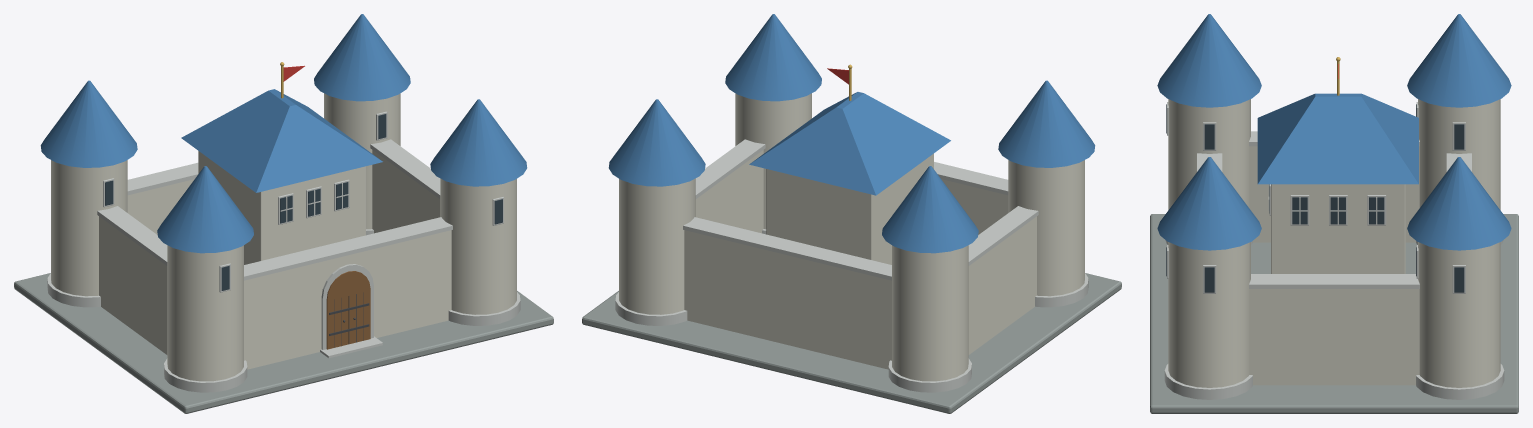
File: castle_round_towers.glb
3 views of the same model, side by side, from view 1: azimuth 30°, elevation 25°; view 2: azimuth 150°, elevation 25°; view 3: azimuth 270°, elevation 25° (orthographic). The views are drawn at different scales.
Visible parts, largest first — view 1: Round castle end wall, Round castle stone base, Central blue hipped roof, Round limestone tower, Round limestone tower.002, Round castle central hall, Round limestone tower.001, Round castle side wall, Blue conical tower roof.002, Blue conical tower roof.003, Blue conical tower roof.001, Blue conical tower roof (+13 smaller); view 2: Round castle end wall.001, Round castle stone base, Central blue hipped roof, Round limestone tower.001, Round castle central hall, Round limestone tower.003, Round limestone tower, Round castle side wall, Blue conical tower roof.003, Blue conical tower roof.002, Blue conical tower roof, Blue conical tower roof.001 (+10 smaller); view 3: Round castle side wall.001, Round castle stone base, Central blue hipped roof, Round limestone tower.003, Round limestone tower.002, Round castle central hall, Blue conical tower roof.002, Blue conical tower roof.003, Blue conical tower roof, Blue conical tower roof.001, Round limestone tower.001, Round limestone tower (+7 smaller).
Part boxes in pixels (bbox=[...]): Round castle end wall: bbox=[244, 230, 451, 369]; Round castle stone base: bbox=[14, 273, 553, 413]; Central blue hipped roof: bbox=[181, 89, 382, 192]; Round limestone tower: bbox=[167, 245, 243, 381]; Round limestone tower.002: bbox=[440, 178, 516, 314]; Round castle central hall: bbox=[198, 151, 365, 264]; Round limestone tower.001: bbox=[51, 160, 127, 296]; Round castle side wall: bbox=[99, 216, 167, 354]; Blue conical tower roof.002: bbox=[430, 99, 527, 186]; Blue conical tower roof.003: bbox=[314, 14, 410, 101]; Blue conical tower roof.001: bbox=[40, 80, 137, 167]; Blue conical tower roof: bbox=[157, 166, 253, 253]; Round castle end wall.001: bbox=[684, 230, 891, 369]; Round castle stone base: bbox=[582, 273, 1121, 413]; Central blue hipped roof: bbox=[749, 92, 950, 195]; Round limestone tower.001: bbox=[892, 245, 968, 381]; Round castle central hall: bbox=[766, 153, 933, 264]; Round limestone tower.003: bbox=[619, 178, 695, 314]; Round limestone tower: bbox=[1008, 160, 1084, 296]; Round castle side wall: bbox=[968, 216, 1036, 354]; Blue conical tower roof.003: bbox=[608, 99, 705, 186]; Blue conical tower roof.002: bbox=[725, 14, 821, 101]; Blue conical tower roof: bbox=[998, 80, 1095, 167]; Blue conical tower roof.001: bbox=[882, 166, 978, 253]; Round castle side wall.001: bbox=[1249, 289, 1419, 385]; Round castle stone base: bbox=[1150, 214, 1518, 413]; Central blue hipped roof: bbox=[1257, 93, 1418, 184]; Round limestone tower.003: bbox=[1418, 242, 1500, 387]; Round limestone tower.002: bbox=[1168, 242, 1250, 387]; Round castle central hall: bbox=[1271, 184, 1405, 273]; Blue conical tower roof.002: bbox=[1157, 157, 1261, 250]; Blue conical tower roof.003: bbox=[1407, 157, 1511, 250]; Blue conical tower roof: bbox=[1157, 14, 1261, 107]; Blue conical tower roof.001: bbox=[1407, 14, 1511, 107]; Round limestone tower.001: bbox=[1418, 99, 1500, 209]; Round limestone tower: bbox=[1168, 99, 1250, 209].
Bounding box in the file's own units: 23.8 × 15 × 19.2.
